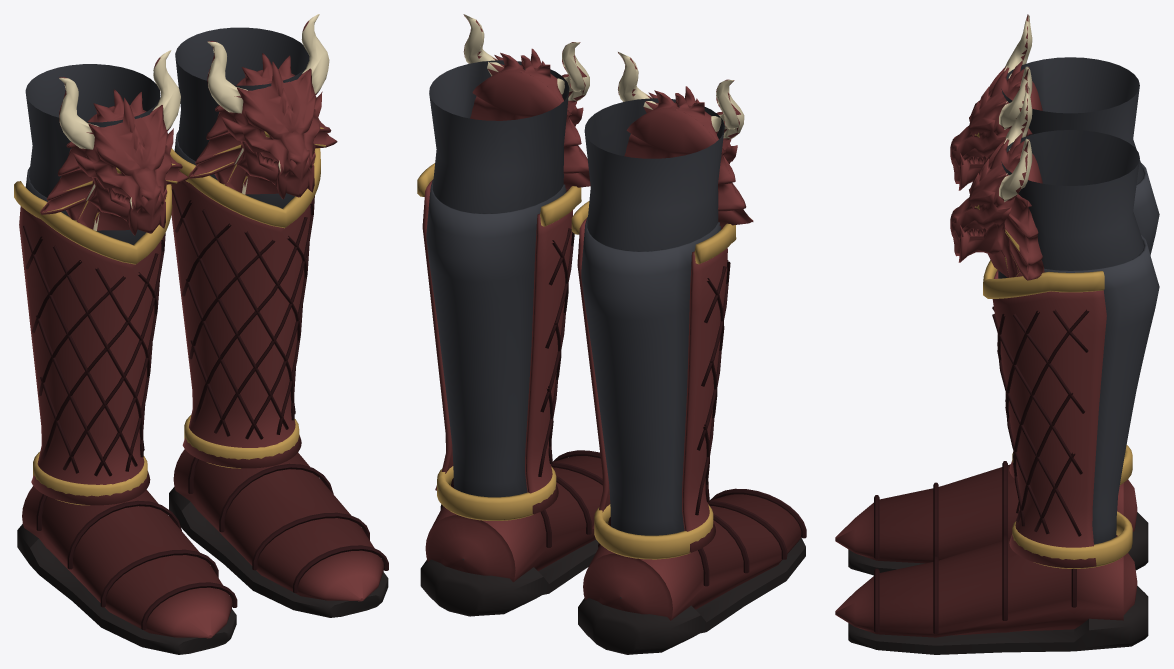
The model's file is f_dragonknight.glb.
3 views of the same model, side by side, from view 1: azimuth 30°, elevation 25°; view 2: azimuth 150°, elevation 25°; view 3: azimuth 270°, elevation 25° (orthographic). The views are drawn at different scales.
Visible parts, largest first — view 1: LegR_Boot, LegL_Boot, LegR_BootFoot, LegL_BootFoot; view 2: LegR_Boot, LegL_Boot, LegR_BootFoot, LegL_BootFoot; view 3: LegL_Boot, LegL_BootFoot, LegR_Boot, LegR_BootFoot.
Part boxes in pixels (x1,y1,x2,y2): LegR_Boot: (14,50,188,505); LegL_Boot: (170,14,337,468); LegR_BootFoot: (17,486,237,654); LegL_BootFoot: (169,449,388,617); LegR_Boot: (571,52,753,559); LegL_Boot: (417,14,590,520); LegR_BootFoot: (578,488,806,654); LegL_BootFoot: (420,450,602,616); LegL_Boot: (950,86,1159,568); LegL_BootFoot: (835,534,1148,654); LegR_Boot: (950,14,1159,485); LegR_BootFoot: (835,461,1148,575).
Bounding box in the file's own units: 0.3797 × 0.6376 × 0.3613.
